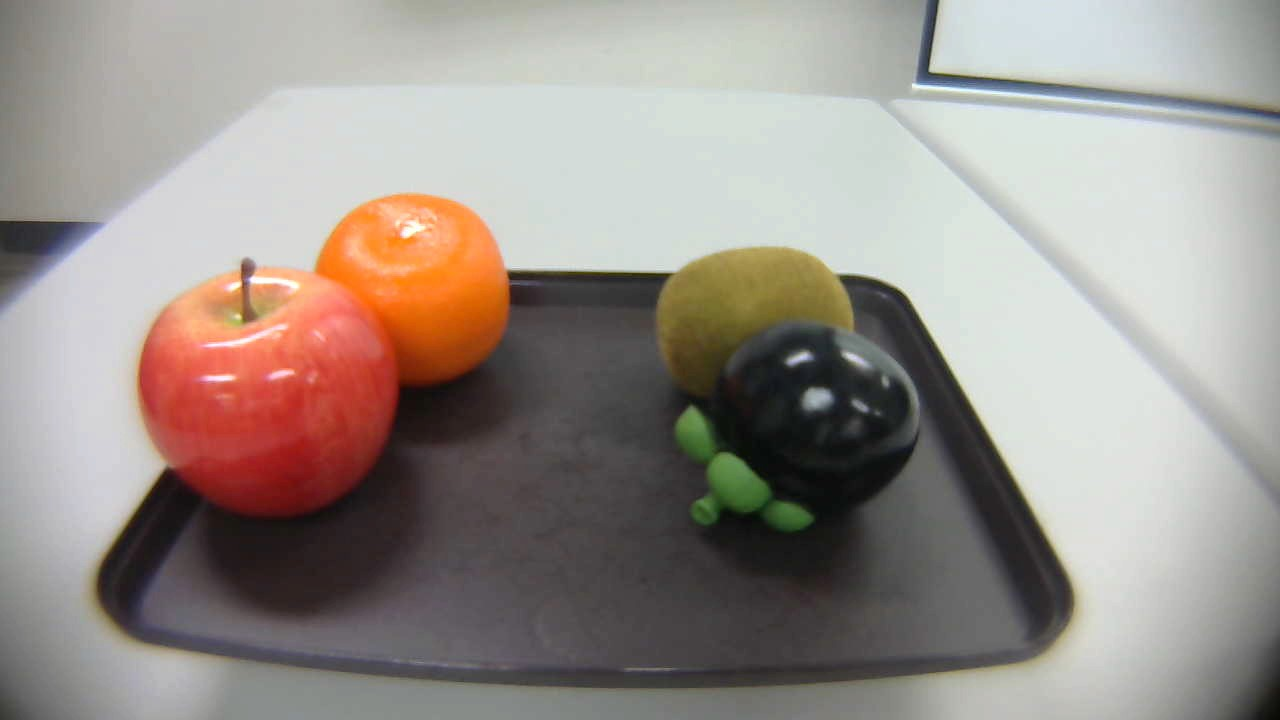kiwi fruit: (652, 241, 857, 391)
mangosteen: (663, 317, 932, 565)
orange: (315, 196, 520, 394)
red apple: (128, 259, 403, 523)
